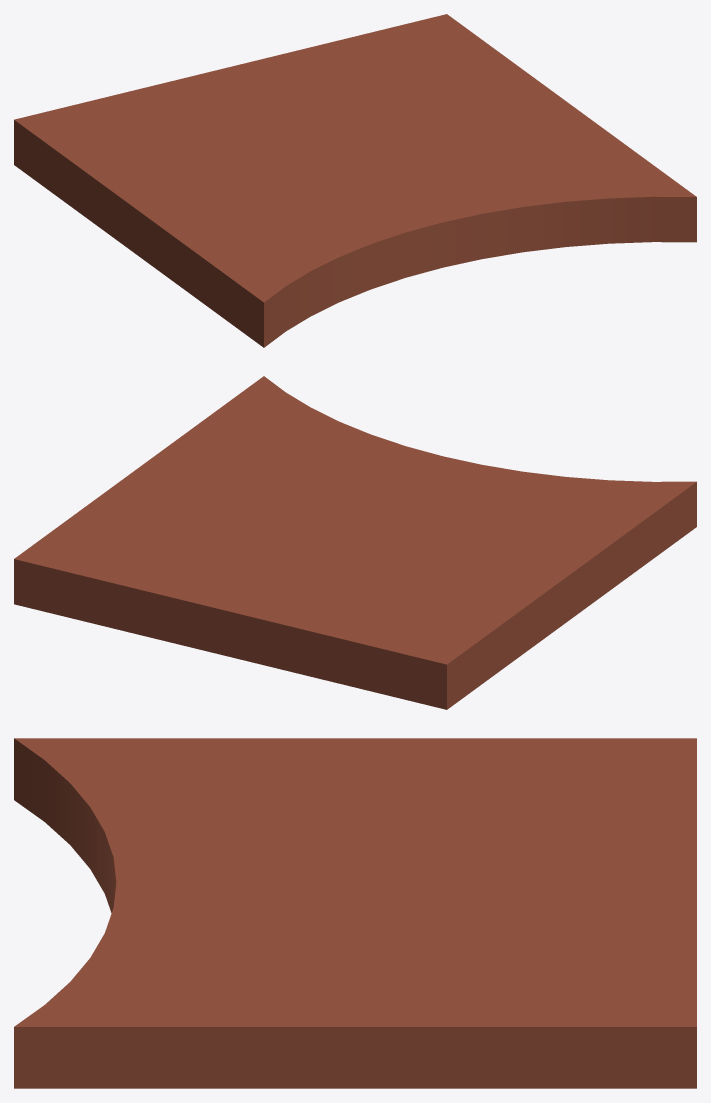
The model's file is original-16.obj.
3 views of the same model, one above another, from view 1: azimuth 30°, elevation 25°; view 2: azimuth 150°, elevation 25°; view 3: azimuth 270°, elevation 25° (orthographic). The views are drawn at different scales.
Parts seen in each view (by area): view 1: Component_83_1/Component_83/mesh44/mesh44-geometry#mesh44-geomet; view 2: Component_83_1/Component_83/mesh44/mesh44-geometry#mesh44-geomet; view 3: Component_83_1/Component_83/mesh44/mesh44-geometry#mesh44-geomet.
Boxes of the visible parts, box(x1,y1,x2,y2) form: Component_83_1/Component_83/mesh44/mesh44-geometry#mesh44-geomet: box(14, 14, 696, 347); Component_83_1/Component_83/mesh44/mesh44-geometry#mesh44-geomet: box(14, 376, 696, 709); Component_83_1/Component_83/mesh44/mesh44-geometry#mesh44-geomet: box(14, 738, 696, 1088).
Size of the model in its own units: 0.4201 by 0.042 by 0.4201.
